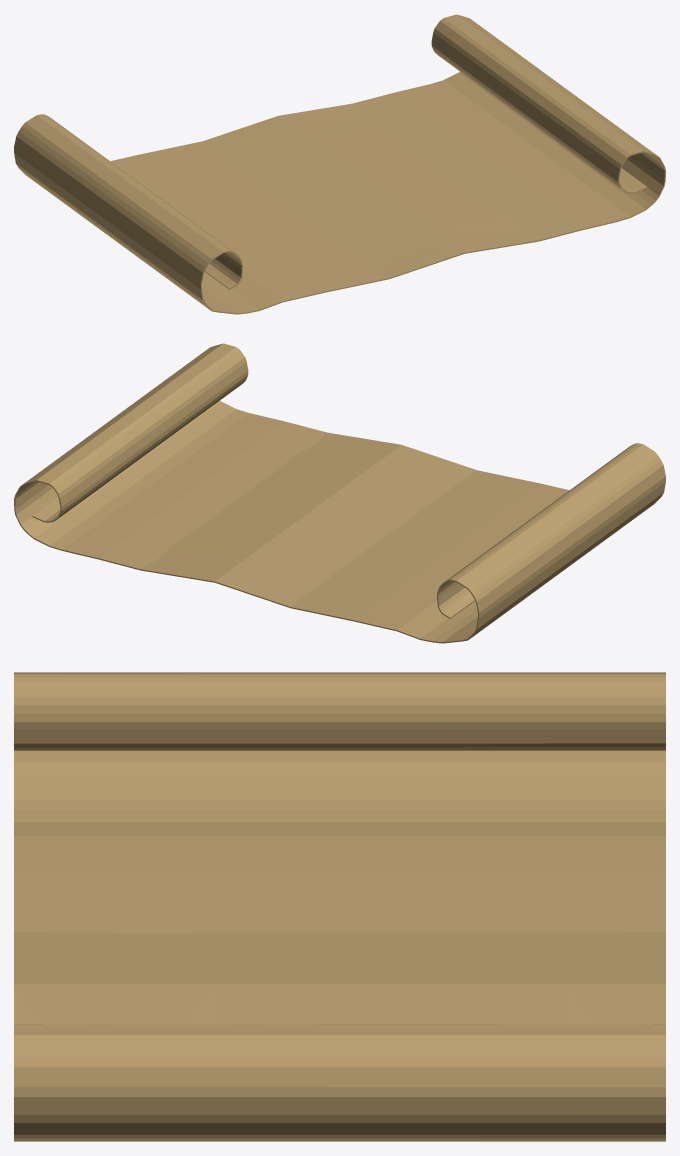
Rendered from scroll.fbx.
3 views of the same model, one above another, from view 1: azimuth 30°, elevation 25°; view 2: azimuth 150°, elevation 25°; view 3: azimuth 270°, elevation 25° (orthographic). The views are drawn at different scales.
Visible parts, largest first — view 1: scroll; view 2: scroll; view 3: scroll.
Part boxes in pixels (bbox=[...]): scroll: bbox=[14, 14, 665, 314]; scroll: bbox=[14, 343, 665, 643]; scroll: bbox=[14, 672, 665, 1141].
Size of the model in its own units: 0.8065 by 0.1125 by 0.5609.
